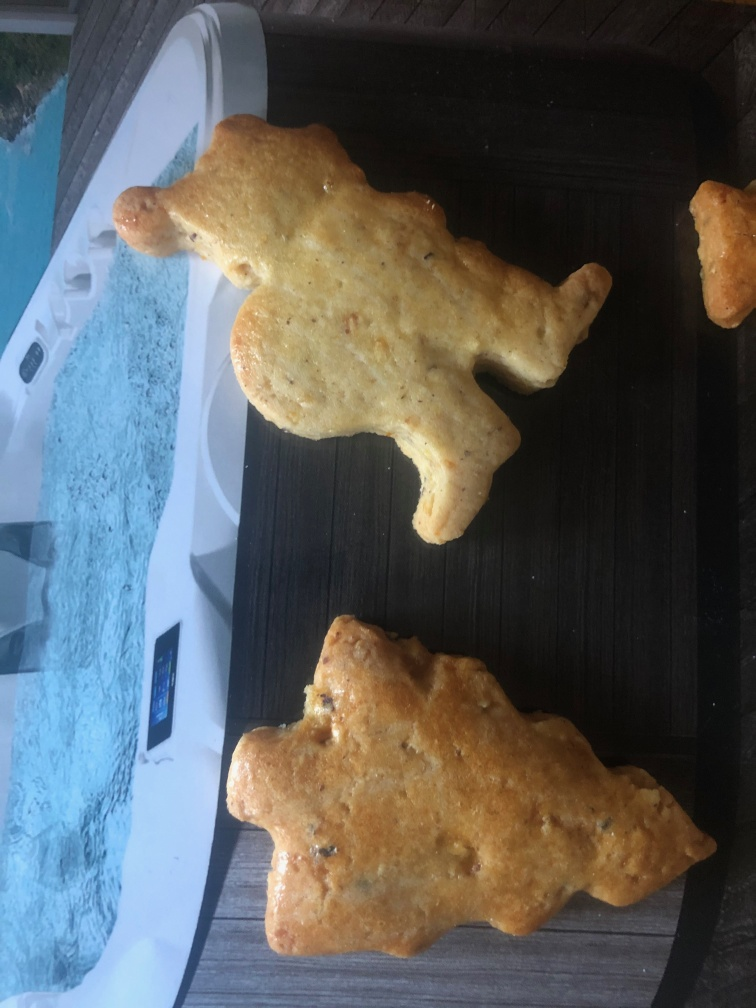christmas tree: (214, 605, 727, 966)
santa claus: (109, 108, 619, 553)
